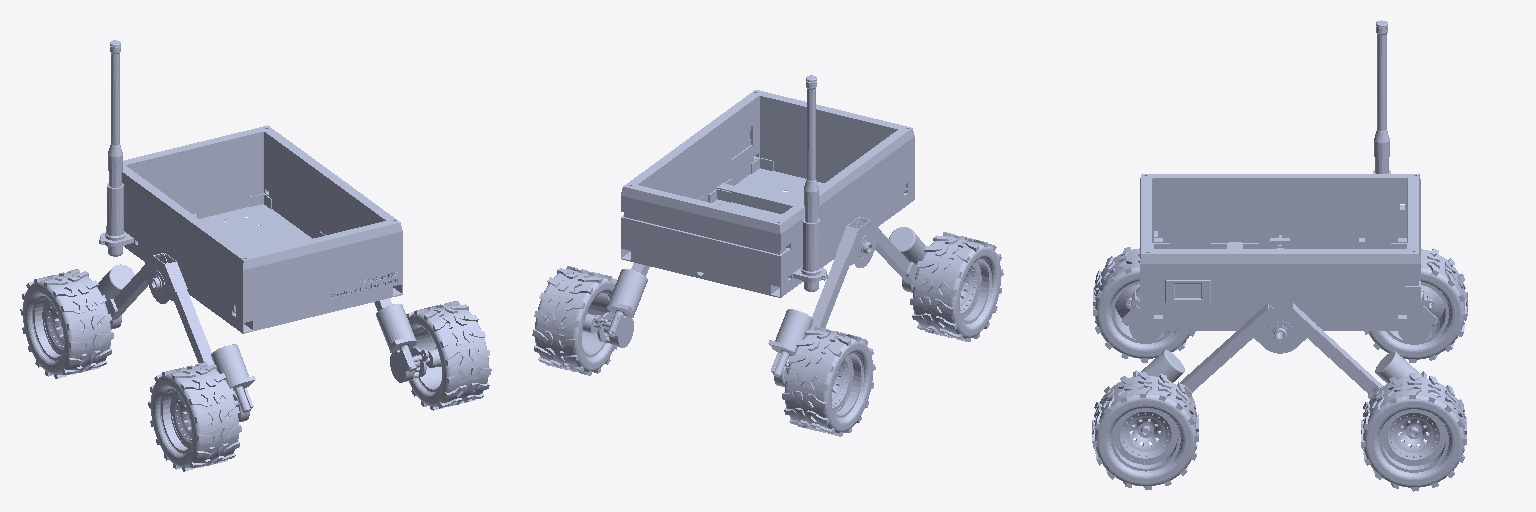
The robot description file, URDF, robot "URDF Model":
<?xml version="1.0" encoding="utf-8"?>

<robot
  name="URDF Model">
  <link
    name="base_link">
    <inertial>
      <origin
        xyz="-0.0098261 0.07766 -0.0073306"
        rpy="0 0 0" />
      <mass
        value="7.1326" />
      <inertia
        ixx="0.045759"
        ixy="-0.00012532"
        ixz="-0.00042172"
        iyy="0.052041"
        iyz="2.6125E-05"
        izz="0.036293" />
    </inertial>
    <visual>
      <origin
        xyz="0 0 0"
        rpy="0 0 0" />
      <geometry>
        <mesh
          filename="package://simple_robot_description/meshes/base_link.stl" />
      </geometry>
      <material
        name="">
        <color
          rgba="0.79216 0.81961 0.93333 1" />
      </material>
    </visual>
    <collision>
      <origin
        xyz="0 0 0"
        rpy="0 0 0" />
      <geometry>
        <mesh
          filename="package://simple_robot_description/meshes/base_link.stl" />
      </geometry>
    </collision>
  </link>
  <link
    name="Left Rocker">
    <inertial>
      <origin
        xyz="0.036672 -0.11778 0.0031826"
        rpy="0 0 0" />
      <mass
        value="0.92496" />
      <inertia
        ixx="0.0014371"
        ixy="8.6738E-06"
        ixz="-2.6572E-07"
        iyy="0.00085497"
        iyz="3.221E-07"
        izz="0.00086547" />
    </inertial>
    <visual>
      <origin
        xyz="0 0 0"
        rpy="0 0 0" />
      <geometry>
        <mesh
          filename="package://simple_robot_description/meshes/Left_Rocker.stl" />
      </geometry>
      <material
        name="">
        <color
          rgba="0.79216 0.81961 0.93333 1" />
      </material>
    </visual>
    <collision>
      <origin
        xyz="0 0 0"
        rpy="0 0 0" />
      <geometry>
        <mesh
          filename="package://simple_robot_description/meshes/Left_Rocker.stl" />
      </geometry>
    </collision>
  </link>
  <joint
    name="Left Rocker Joint"
    type="revolute">
    <origin
      xyz="0.16901 0 0"
      rpy="1.596 0 0" />
    <parent
      link="base_link" />
    <child
      link="Left Rocker" />
    <axis
      xyz="1 0 0" />
    <limit
      lower="0"
      upper="0"
      effort="0"
      velocity="0" />
  </joint>
  <link
    name="front_left_wheel">
    <inertial>
      <origin
        xyz="-6.0962E-07 -0.066324 4.1684E-08"
        rpy="0 0 0" />
      <mass
        value="2.5634" />
      <inertia
        ixx="0.011745"
        ixy="-2.3082E-08"
        ixz="-5.2422E-10"
        iyy="0.018944"
        iyz="1.9477E-09"
        izz="0.011745" />
    </inertial>
    <visual>
      <origin
        xyz="0 0 0"
        rpy="0 0 0" />
      <geometry>
        <mesh
          filename="package://simple_robot_description/meshes/Front_Left_Wheel.stl" />
      </geometry>
      <material
        name="">
        <color
          rgba="0.79216 0.81961 0.93333 1" />
      </material>
    </visual>
    <collision>
      <origin
        xyz="0 0 0"
        rpy="0 0 0" />
      <geometry>
        <mesh
          filename="package://simple_robot_description/meshes/Front_Left_Wheel.stl" />
      </geometry>
    </collision>
  </link>
  <joint
    name="front_left_wheel_joint"
    type="continuous">
    <origin
      xyz="0.065325 -0.17676 0.2723"
      rpy="0 0 1.5708" />
    <parent
      link="Left Rocker" />
    <child
      link="front_left_wheel" />
    <axis
      xyz="0 1 0" />
    <limit
      effort="5"
      velocity="10" />
    <dynamics
      damping="0.05" 
      friction="0" />
  </joint>
  <link
    name="rear_left_wheel">
    <inertial>
      <origin
        xyz="-6.0962E-07 -0.066324 4.1684E-08"
        rpy="0 0 0" />
      <mass
        value="2.5634" />
      <inertia
        ixx="0.011745"
        ixy="-2.3082E-08"
        ixz="-5.2422E-10"
        iyy="0.018944"
        iyz="1.9477E-09"
        izz="0.011745" />
    </inertial>
    <visual>
      <origin
        xyz="0 0 0"
        rpy="0 0 0" />
      <geometry>
        <mesh
          filename="package://simple_robot_description/meshes/Rear_Left_Wheel.stl" />
      </geometry>
      <material
        name="">
        <color
          rgba="0.79216 0.81961 0.93333 1" />
      </material>
    </visual>
    <collision>
      <origin
        xyz="0 0 0"
        rpy="0 0 0" />
      <geometry>
        <mesh
          filename="package://simple_robot_description/meshes/Rear_Left_Wheel.stl" />
      </geometry>
    </collision>
  </link>
  <joint
    name="rear_left_wheel_joint"
    type="continuous">
    <origin
      xyz="0.065325 -0.19309 -0.26097"
      rpy="0 0.025218 1.5708" />
    <parent
      link="Left Rocker" />
    <child
      link="rear_left_wheel" />
    <axis
      xyz="0 1 0" />
    <limit
      effort="5"
      velocity="10" />
    <dynamics
      damping="0.05" 
      friction="0" />
  </joint>
  <link
    name="Right Rocker">
    <inertial>
      <origin
        xyz="-0.036672 -0.1176 -0.0016165"
        rpy="0 0 0" />
      <mass
        value="0.92496" />
      <inertia
        ixx="0.0014371"
        ixy="-8.5858E-06"
        ixz="-2.7847E-07"
        iyy="0.00085314"
        iyz="-1.402E-06"
        izz="0.0008673" />
    </inertial>
    <visual>
      <origin
        xyz="0 0 0"
        rpy="0 0 0" />
      <geometry>
        <mesh
          filename="package://simple_robot_description/meshes/Right_Rocker.stl" />
      </geometry>
      <material
        name="">
        <color
          rgba="0.79216 0.81961 0.93333 1" />
      </material>
    </visual>
    <collision>
      <origin
        xyz="0 0 0"
        rpy="0 0 0" />
      <geometry>
        <mesh
          filename="package://simple_robot_description/meshes/Right_Rocker.stl" />
      </geometry>
    </collision>
  </link>
  <joint
    name="Right Rocker Joint"
    type="revolute">
    <origin
      xyz="-0.16902 0 0"
      rpy="1.5516 0 0" />
    <parent
      link="base_link" />
    <child
      link="Right Rocker" />
    <axis
      xyz="1 0 0" />
    <limit
      lower="0"
      upper="0"
      effort="0"
      velocity="0" />
  </joint>
  <link
    name="front_right_wheel">
    <inertial>
      <origin
        xyz="-6.0962E-07 -0.066324 4.1684E-08"
        rpy="0 0 0" />
      <mass
        value="2.5634" />
      <inertia
        ixx="0.011745"
        ixy="-2.3082E-08"
        ixz="-5.2422E-10"
        iyy="0.018944"
        iyz="1.9477E-09"
        izz="0.011745" />
    </inertial>
    <visual>
      <origin
        xyz="0 0 0"
        rpy="0 0 0" />
      <geometry>
        <mesh
          filename="package://simple_robot_description/meshes/Front_Right_Wheel.stl" />
      </geometry>
      <material
        name="">
        <color
          rgba="0.79216 0.81961 0.93333 1" />
      </material>
    </visual>
    <collision>
      <origin
        xyz="0 0 0"
        rpy="0 0 0" />
      <geometry>
        <mesh
          filename="package://simple_robot_description/meshes/Front_Right_Wheel.stl" />
      </geometry>
    </collision>
  </link>
  <joint
    name="front_right_wheel_joint"
    type="continuous">
    <origin
      xyz="-0.065325 -0.18923 0.26378"
      rpy="0 0.019168 -1.5708" />
    <parent
      link="Right Rocker" />
    <child
      link="front_right_wheel" />
    <axis
      xyz="0 1 0" />
    <limit
      effort="5"
      velocity="10" />
    <dynamics
      damping="0.05" 
      friction="0" /> 
  </joint>
  <link
    name="rear_right_wheel">
    <inertial>
      <origin
        xyz="-6.0962E-07 -0.066324 4.1684E-08"
        rpy="0 0 0" />
      <mass
        value="2.5634" />
      <inertia
        ixx="0.011745"
        ixy="-2.3082E-08"
        ixz="-5.2422E-10"
        iyy="0.018944"
        iyz="1.9477E-09"
        izz="0.011745" />
    </inertial>
    <visual>
      <origin
        xyz="0 0 0"
        rpy="0 0 0" />
      <geometry>
        <mesh
          filename="package://simple_robot_description/meshes/Rear_Right_Wheel.stl" />
      </geometry>
      <material
        name="">
        <color
          rgba="0.79216 0.81961 0.93333 1" />
      </material>
    </visual>
    <collision>
      <origin
        xyz="0 0 0"
        rpy="0 0 0" />
      <geometry>
        <mesh
          filename="package://simple_robot_description/meshes/Rear_Right_Wheel.stl" />
      </geometry>
    </collision>
  </link>
  <joint
    name="rear_right_wheel_joint"
    type="continuous">
    <origin
      xyz="-0.065325 -0.18074 -0.26967"
      rpy="0 0.019168 -1.5708" />
    <parent
      link="Right Rocker" />
    <child
      link="rear_right_wheel" />
    <axis
      xyz="0 1 0" />
    <limit
      effort="5"
      velocity="10" />
    <dynamics
      damping="0.05" 
      friction="0" />  
  </joint>

<!-- PLUGINS -->

  <!-- Differential drive -->
  <gazebo>
    <plugin filename="libgazebo_ros_diff_drive.so" name="differential_drive_controller">

      <!-- wheels -->
      <left_joint>front_left_wheel_joint</left_joint>
      <right_joint>front_right_wheel_joint</right_joint>

      <!-- kinematics -->
      <wheel_separation>.4687</wheel_separation>
      <!-- TODO diameter calculated based off of moment of inertia and mass, measure it later-->
      <wheel_diameter>0.2431</wheel_diameter>

      <!-- limits -->
      <max_wheel_torque>1.0</max_wheel_torque>
      <max_wheel_acceleration>2.0</max_wheel_acceleration>

      <!-- output -->
      <publish_odom>true</publish_odom>
      <publish_odom_tf>true</publish_odom_tf>

      <odometry_frame>odom</odometry_frame>
      <robot_base_frame>base_link</robot_base_frame>

    </plugin>
  </gazebo>

</robot>

--- Facts derived from the render (not from the file) ---
3 views of the same robot in one strip: view 1: azimuth 30°, elevation 25°; view 2: azimuth 150°, elevation 25°; view 3: azimuth 270°, elevation 25° (orthographic).
Model URDF Model with 7 links and 6 joints (2 revolute, 4 continuous), rooted at base_link, posed all joints at 0.
Visible links, largest first — view 1: base_link, rear_right_wheel, front_right_wheel, front_left_wheel, Right Rocker, Left Rocker; view 2: base_link, rear_right_wheel, front_right_wheel, rear_left_wheel, Right Rocker, Left Rocker; view 3: base_link, front_left_wheel, rear_left_wheel, Left Rocker, rear_right_wheel, front_right_wheel, Right Rocker.
Boxes of the visible links, bbox=[...] form: base_link: bbox=[99, 40, 402, 333]; rear_right_wheel: bbox=[20, 269, 113, 378]; front_right_wheel: bbox=[148, 362, 241, 471]; front_left_wheel: bbox=[406, 301, 491, 410]; Right Rocker: bbox=[98, 253, 255, 421]; Left Rocker: bbox=[374, 298, 428, 382]; base_link: bbox=[621, 75, 914, 297]; rear_right_wheel: bbox=[782, 327, 875, 436]; front_right_wheel: bbox=[910, 232, 1003, 341]; rear_left_wheel: bbox=[532, 266, 616, 375]; Right Rocker: bbox=[768, 217, 925, 386]; Left Rocker: bbox=[594, 263, 649, 347]; base_link: bbox=[1140, 20, 1420, 340]; front_left_wheel: bbox=[1092, 372, 1198, 489]; rear_left_wheel: bbox=[1361, 373, 1466, 491]; Left Rocker: bbox=[1133, 303, 1426, 425]; rear_right_wheel: bbox=[1364, 248, 1467, 362]; front_right_wheel: bbox=[1093, 247, 1195, 362]; Right Rocker: bbox=[1122, 287, 1437, 343].
Size in the robot's own frame: 0.7065 by 0.746 by 0.7617 metres.
Meshes: 7 distinct files referenced, 7 mesh visuals loaded (7 binary STL).